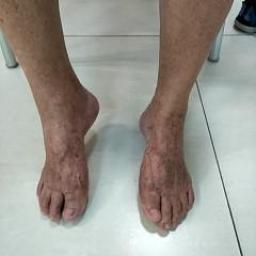Dorsal View -Both Feet-: (14, 58, 230, 250)
